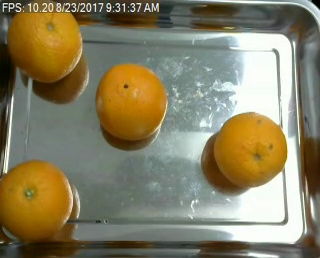Orange: (1, 159, 74, 243), (212, 111, 288, 187), (95, 62, 168, 141), (6, 12, 83, 83)
